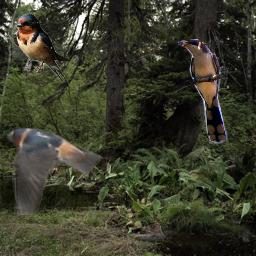Cuckoo: (176, 39, 228, 144)
Swallow: (7, 124, 103, 215), (12, 13, 69, 85)
